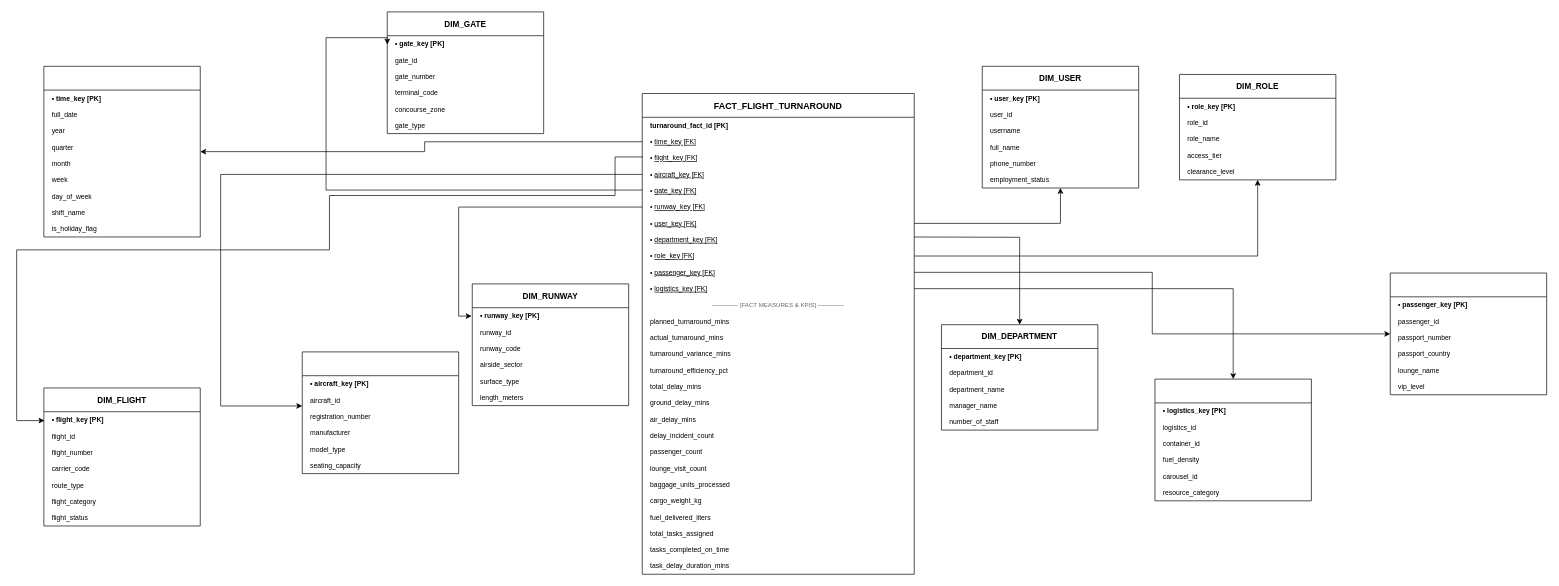
Image size: 1559x586. Some labels were removed from this diagram. Each missing label, with the box of its shape:
DIM_AIRCRAFT: (302, 351, 459, 474)
DIM_LOGISTICS: (1154, 378, 1311, 501)
DIM_PASSENGER: (1390, 272, 1547, 395)
DIM_TIME: (43, 66, 200, 237)
